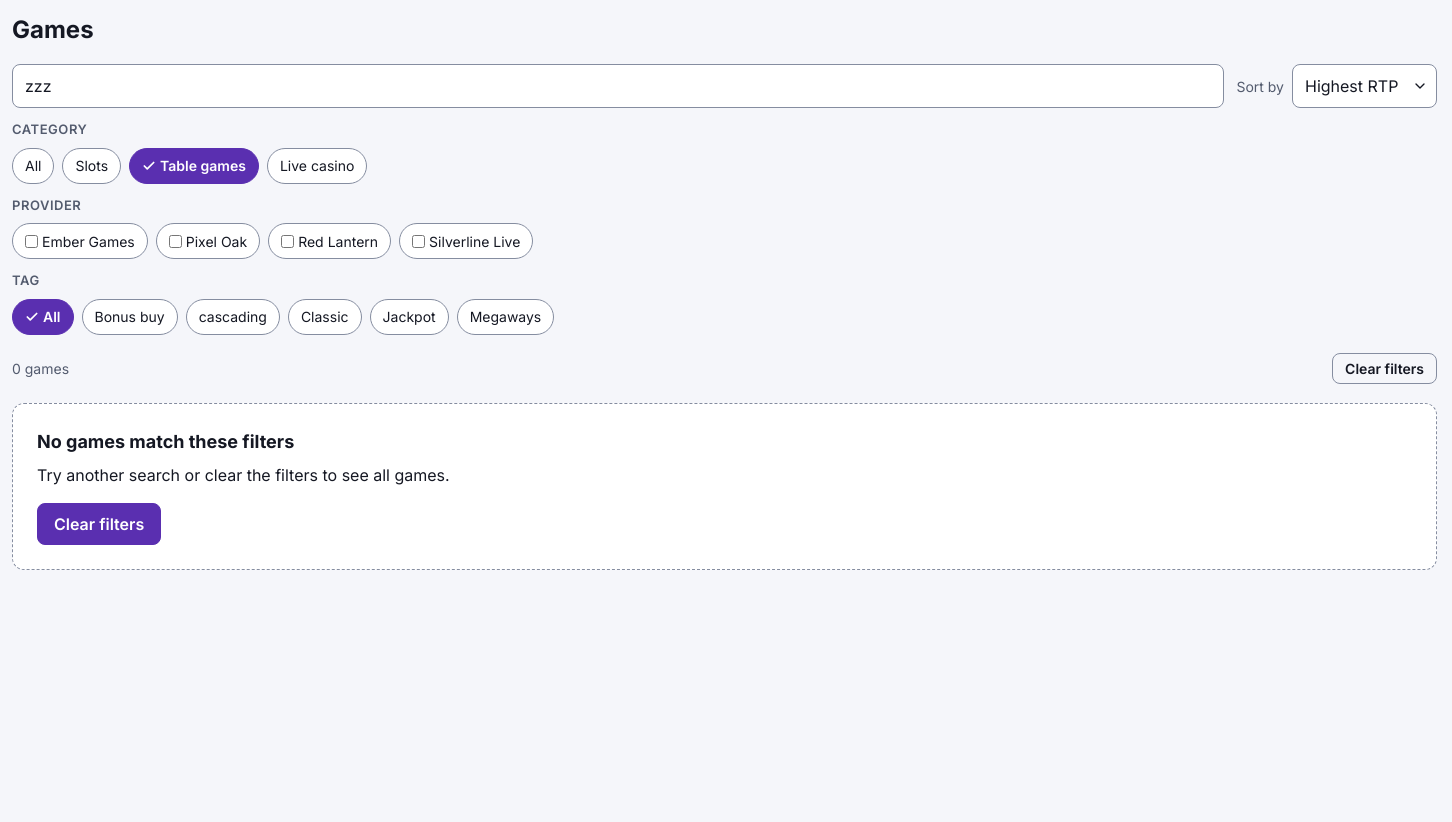
Catalog › empty state: Clear filters restores every default incl. sort, keeps mock and focuses the heading
Expected: the heading "No games match these filters" is shown, [37, 428, 294, 454]
Expected: the message reads "0 games", [12, 360, 69, 377]
Click the button "Clear filters" below "No games match these filters". click: (99, 524)
box: [37, 502, 161, 544]
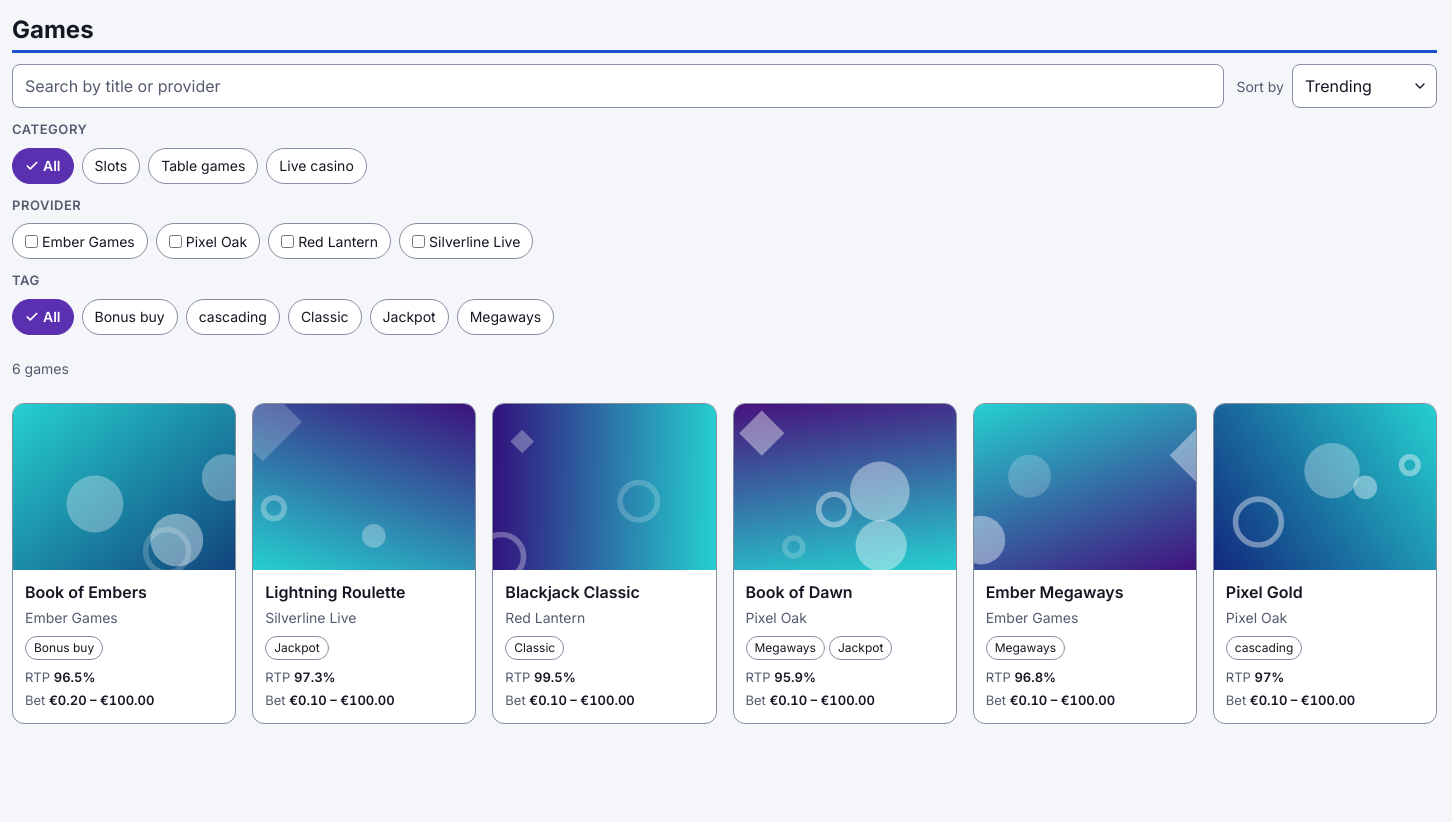
Expected: the search field named "Search games" is empty, [12, 64, 1224, 108]
Expected: the dropdown labelled "Sort by" shows "Trending", [1292, 64, 1437, 108]
Expected: the button "Clear filters" is gone
